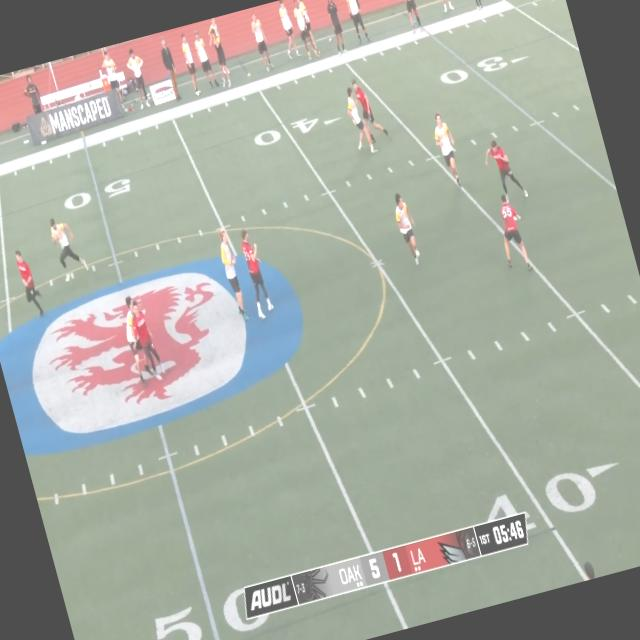Disc: (512, 214, 520, 220)
Player: (115, 293, 165, 380), (340, 77, 392, 156), (234, 228, 278, 320), (212, 227, 254, 319), (491, 191, 535, 272), (482, 133, 529, 205), (45, 212, 93, 282), (388, 192, 425, 268), (12, 246, 46, 322), (428, 114, 464, 184)
